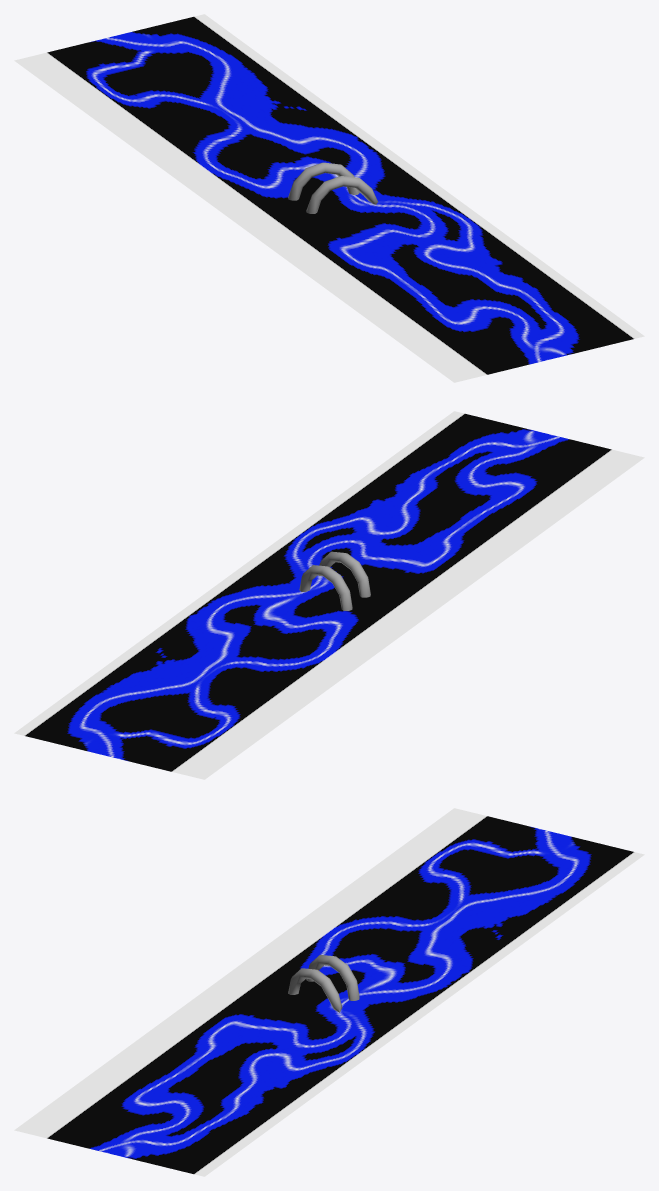
The model's file is shocker.obj.
3 views of the same model, one above another, from view 1: azimuth 30°, elevation 25°; view 2: azimuth 150°, elevation 25°; view 3: azimuth 330°, elevation 25° (orthographic).
Visible parts, largest first — view 1: lightning, shocker; view 2: lightning, shocker; view 3: lightning, shocker.
Part boxes in pixels (left/top/right/bottom): lightning: left=14, top=14, right=644, bottom=382; shocker: left=288, top=162, right=377, bottom=213; lightning: left=14, top=411, right=644, bottom=779; shocker: left=299, top=551, right=370, bottom=610; lightning: left=14, top=808, right=644, bottom=1176; shocker: left=288, top=954, right=359, bottom=1012.
Size of the model in its own units: 5 by 1.65 by 20.
Materials: 2 (1 with a texture image).
